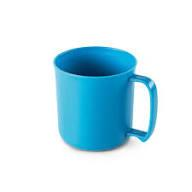cup: (54, 47, 156, 150)
